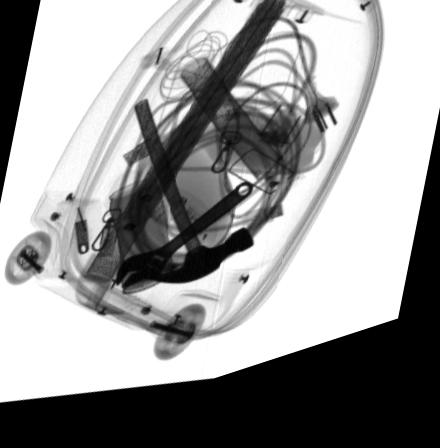Hammer: (130, 108, 254, 294)
Wrench: (115, 196, 254, 296)
